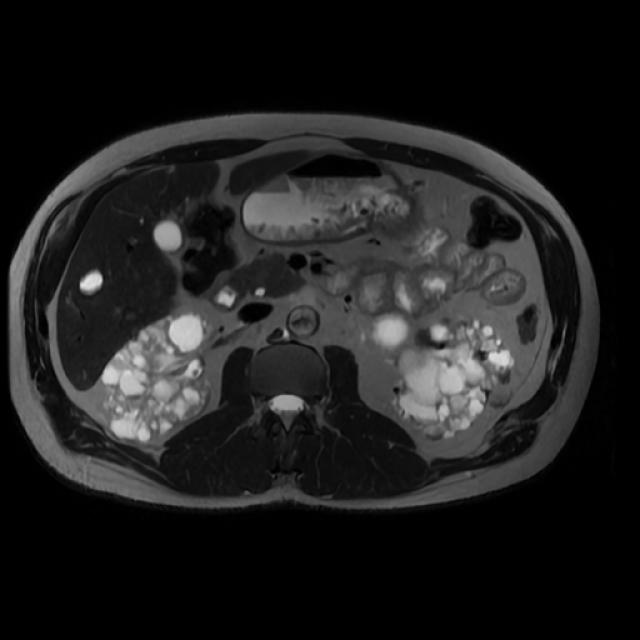sag: (98, 312, 213, 447)
sol: (366, 309, 516, 445)
